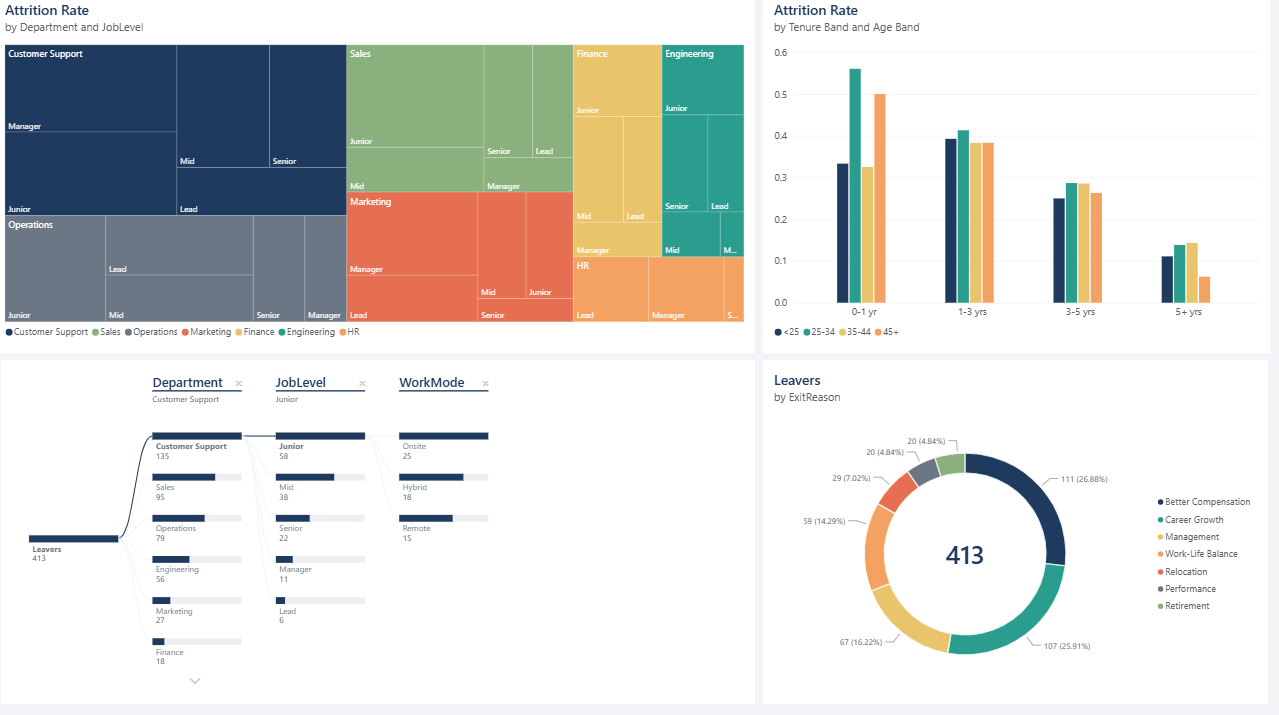

The page's visual inventory and layout, read from the dashboard file:
{"tool":"powerbi","page":{"name":"Why People Leave","canvas":[1920,1080],"ordinal":1},"visuals":[{"type":"donutChart","fields":{"Category":["employees.ExitReason"],"Y":["DateTable.Leavers"]},"box":[1157,539.8,736.8,501.9],"z":0},{"type":"clusteredColumnChart","fields":{"Category":["employees.Tenure Band"],"Series":["employees.Age Band"],"Y":["DateTable.Attrition Rate"]},"box":[1157,0,739.7,529.6],"z":1000},{"type":"decompositionTreeVisual","fields":{"Analyze":["DateTable.Leavers"],"ExplainBy":["departments.Department","employees.JobLevel","employees.WorkMode"]},"box":[45.2,539.8,1100.1,501.9],"z":2000},{"type":"treemap","fields":{"Details":["employees.JobLevel"],"Group":["departments.Department"],"Values":["DateTable.Attrition Rate"]},"box":[35,0,1110.3,529.6],"z":3000}]}

Visuals, with their boxes in screenshot pixels (x1, y1, x2, y2), scaled from the page's 1920x1080 canvas onto the 1279x715 screenshot:
donutChart - employees.ExitReason x DateTable.Leavers: [x1=771, y1=357, x2=1262, y2=690]
clusteredColumnChart - employees.Tenure Band x employees.Age Band: [x1=771, y1=0, x2=1263, y2=351]
decompositionTreeVisual - DateTable.Leavers x departments.Department: [x1=30, y1=357, x2=763, y2=690]
treemap - employees.JobLevel x departments.Department: [x1=23, y1=0, x2=763, y2=351]
